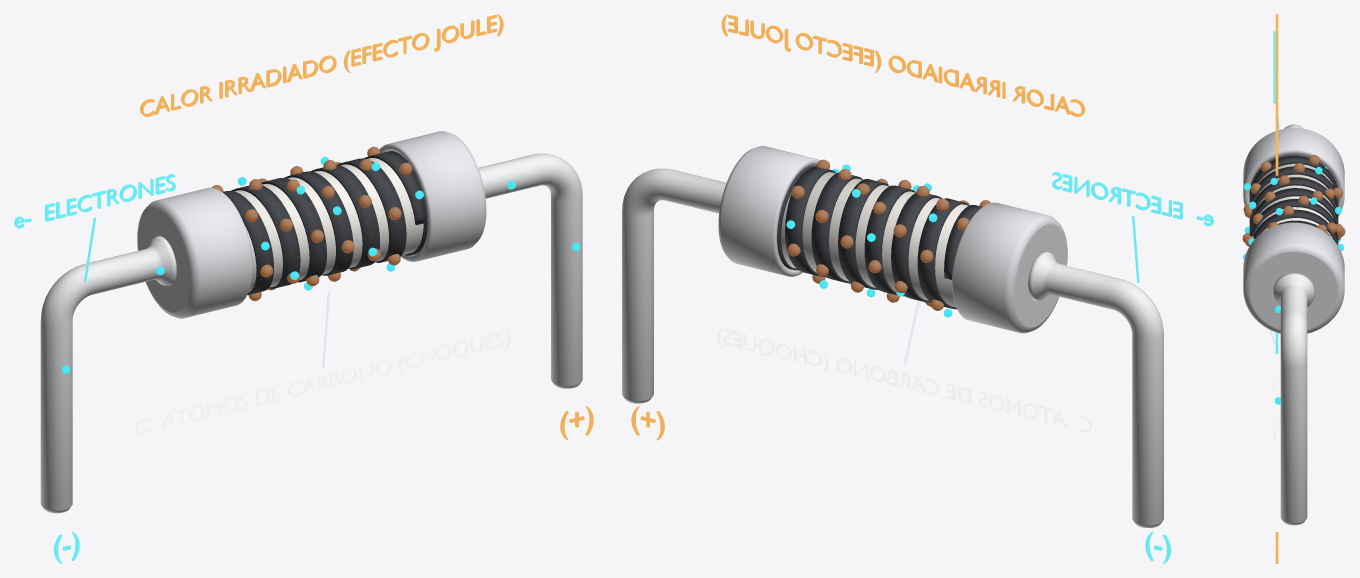
Rendered from 02_Resistencia_Sin_Carcasa_Electrones_Carbono.glb.
3 views of the same model, side by side, from view 1: azimuth 30°, elevation 25°; view 2: azimuth 150°, elevation 25°; view 3: azimuth 270°, elevation 25° (orthographic). The views are drawn at different scales.
Visible parts, largest first — view 1: 02_Pelicula_Carbono_Pirolitico_Espiral_Laser, 04A_Terminal_Izq_Cobre_Estanado, 03A_Casquillo_Presion_Izq, 04B_Terminal_Der_Cobre_Estanado, 03B_Casquillo_Presion_Der, 01_Nucleo_Ceramico_Alumina_Al2O3, Lbl_Calor_Joule, Lbl_Atomos_Carbono, Lbl_Electrones; view 2: 02_Pelicula_Carbono_Pirolitico_Espiral_Laser, 04A_Terminal_Izq_Cobre_Estanado, 03A_Casquillo_Presion_Izq, 04B_Terminal_Der_Cobre_Estanado, 03B_Casquillo_Presion_Der, 01_Nucleo_Ceramico_Alumina_Al2O3, Lbl_Calor_Joule, Lbl_Atomos_Carbono, Lbl_Electrones; view 3: 03B_Casquillo_Presion_Der, 04B_Terminal_Der_Cobre_Estanado, 02_Pelicula_Carbono_Pirolitico_Espiral_Laser, 03A_Casquillo_Presion_Izq, 01_Nucleo_Ceramico_Alumina_Al2O3, Lbl_Calor_Joule, Lbl_Atomos_Carbono, Lbl_Electrones.
Boxes of the visible parts, x1,y1,x2,y2 form: 02_Pelicula_Carbono_Pirolitico_Espiral_Laser: [223, 151, 427, 294]; 04A_Terminal_Izq_Cobre_Estanado: [40, 236, 176, 513]; 03A_Casquillo_Presion_Izq: [137, 187, 252, 318]; 04B_Terminal_Der_Cobre_Estanado: [478, 153, 582, 388]; 03B_Casquillo_Presion_Der: [379, 131, 486, 261]; 01_Nucleo_Ceramico_Alumina_Al2O3: [234, 158, 423, 292]; Lbl_Calor_Joule: [140, 14, 503, 116]; Lbl_Atomos_Carbono: [135, 329, 511, 434]; Lbl_Electrones: [14, 174, 175, 228]; 02_Pelicula_Carbono_Pirolitico_Espiral_Laser: [777, 165, 982, 309]; 04A_Terminal_Izq_Cobre_Estanado: [1028, 251, 1163, 527]; 03A_Casquillo_Presion_Izq: [952, 202, 1067, 333]; 04B_Terminal_Der_Cobre_Estanado: [622, 168, 726, 403]; 03B_Casquillo_Presion_Der: [718, 146, 819, 276]; 01_Nucleo_Ceramico_Alumina_Al2O3: [781, 172, 968, 307]; Lbl_Calor_Joule: [721, 14, 1085, 116]; Lbl_Atomos_Carbono: [717, 327, 1092, 432]; Lbl_Electrones: [1052, 172, 1213, 226]; 03B_Casquillo_Presion_Der: [1243, 222, 1344, 333]; 04B_Terminal_Der_Cobre_Estanado: [1272, 272, 1315, 525]; 02_Pelicula_Carbono_Pirolitico_Espiral_Laser: [1249, 154, 1338, 244]; 03A_Casquillo_Presion_Izq: [1243, 128, 1344, 216]; 01_Nucleo_Ceramico_Alumina_Al2O3: [1255, 163, 1334, 238]; Lbl_Calor_Joule: [1275, 14, 1278, 175]; Lbl_Atomos_Carbono: [1273, 331, 1275, 441]; Lbl_Electrones: [1273, 31, 1275, 103].
Size of what is drawn, in the model's own units: 11.54 by 8.41 by 2.13.
13 materials, 4 textured.
